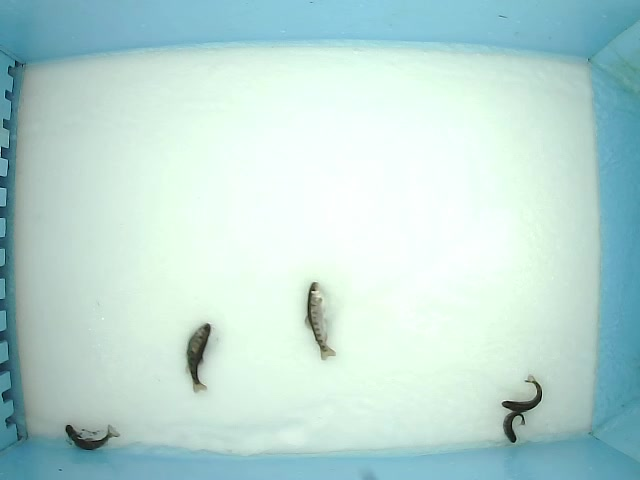fish: (303, 281, 338, 361), (183, 322, 212, 394), (64, 423, 122, 452), (501, 374, 543, 412), (503, 412, 526, 444)
